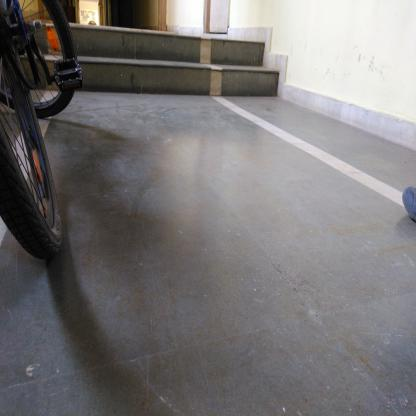stairs: (86, 35, 260, 99)
